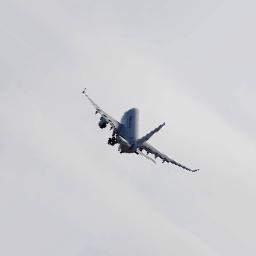Airplane: (81, 86, 200, 173)
